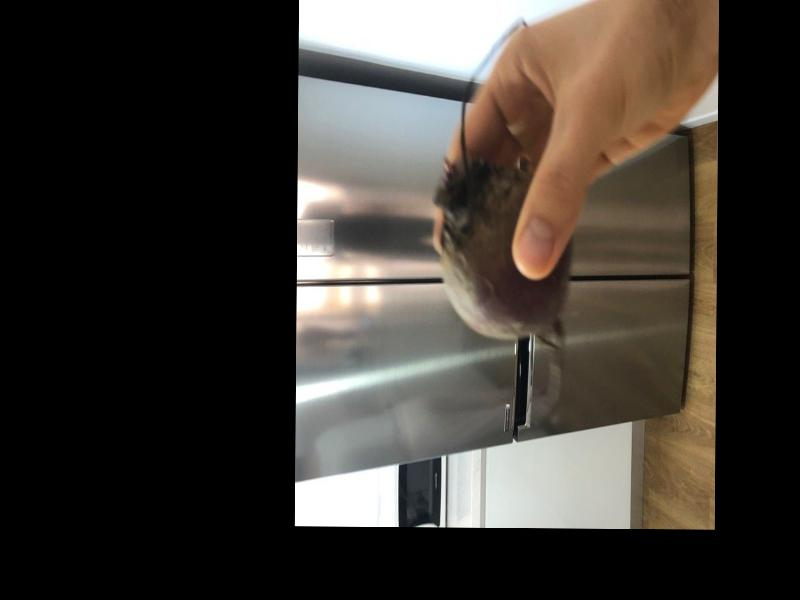Beet: (432, 20, 572, 370)
